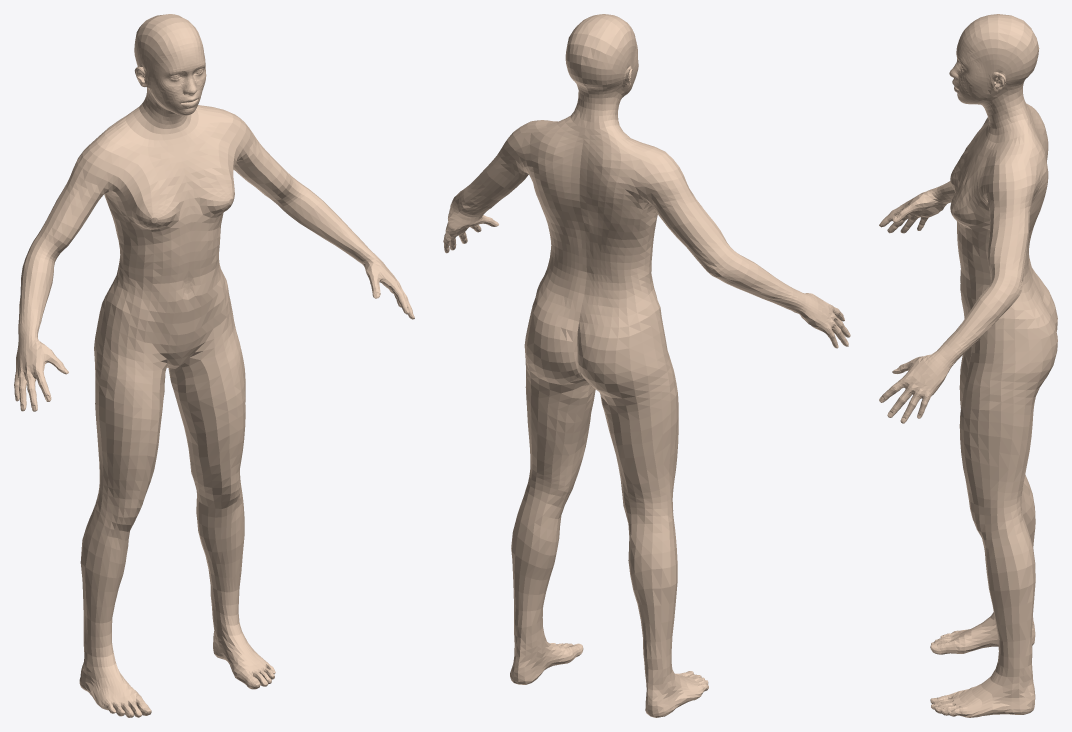
File: female-young-average-strong.glb
3 renders of one model, left to right at view 1: azimuth 30°, elevation 25°; view 2: azimuth 150°, elevation 25°; view 3: azimuth 270°, elevation 25°, orthographic.
Visible parts, largest first — view 1: world; view 2: world; view 3: world.
Boxes of the visible parts, x1,y1,x2,y2 form: world: (14, 14, 414, 717); world: (443, 14, 850, 717); world: (879, 14, 1057, 717).
Bounding box in the file's own units: 1.09 × 1.76 × 0.4291.
